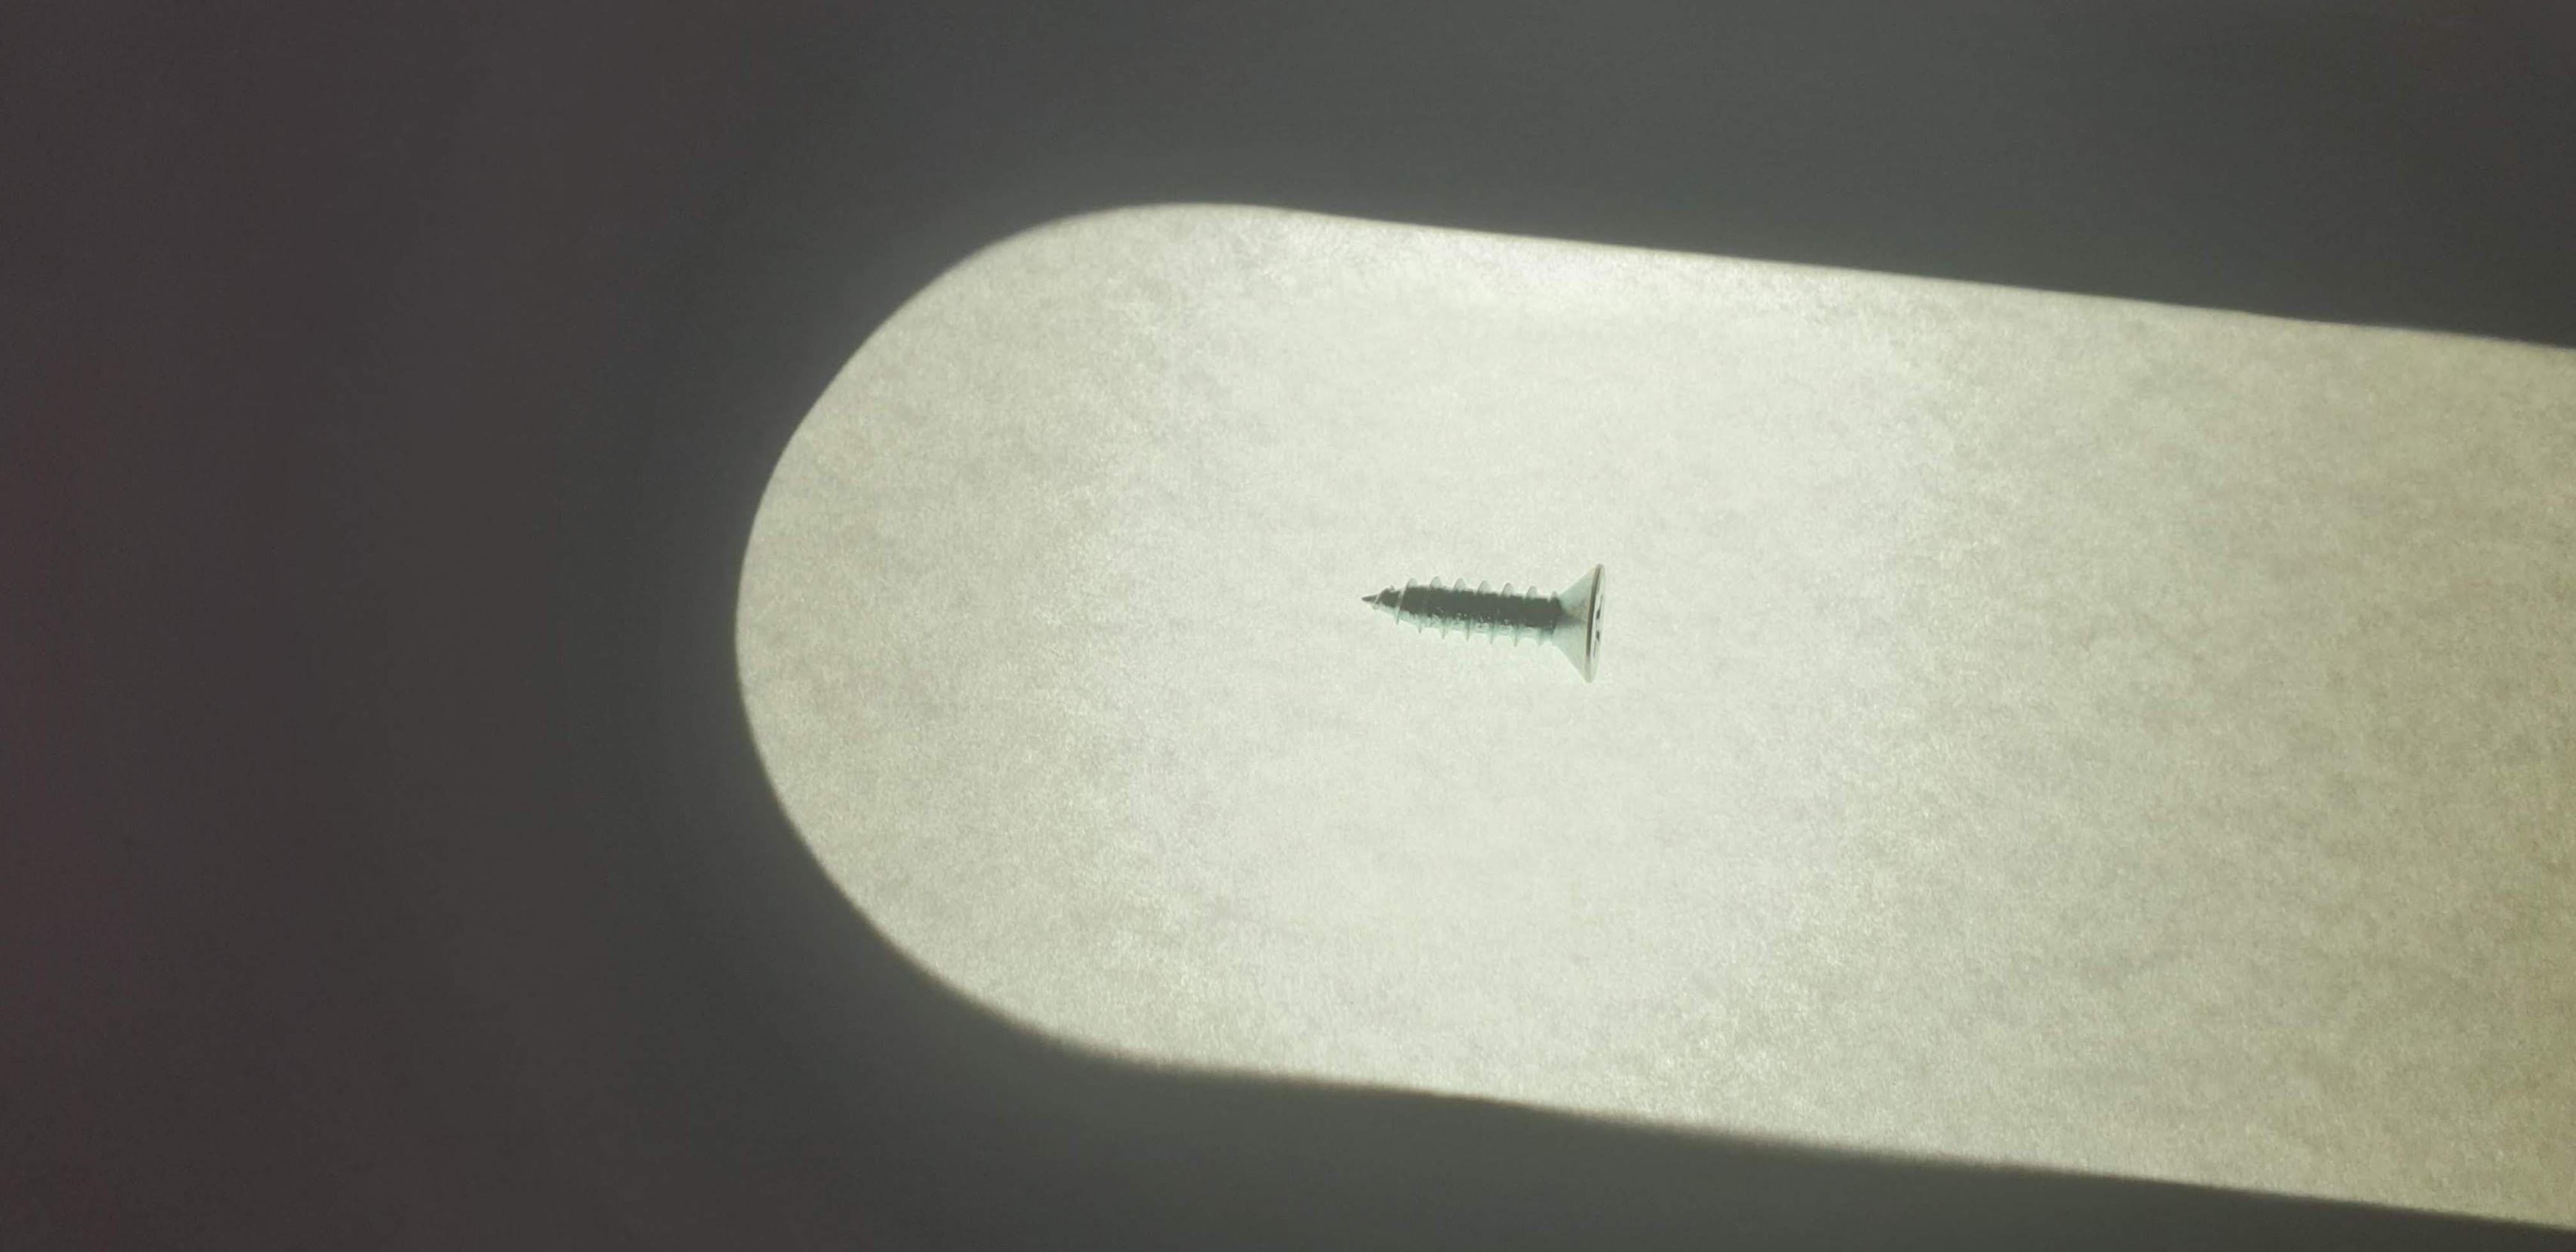S003: (1341, 531, 1672, 713)
